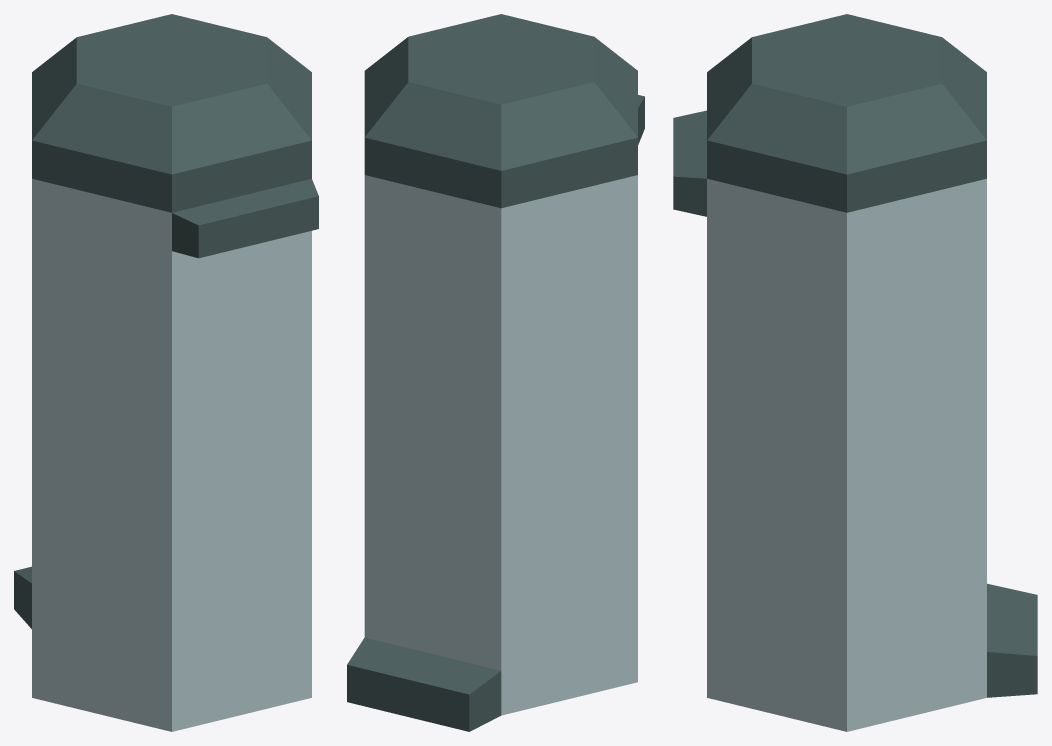
Rendered from trashcan.obj.
3 views of the same model, side by side, from view 1: azimuth 30°, elevation 25°; view 2: azimuth 150°, elevation 25°; view 3: azimuth 270°, elevation 25° (orthographic). The views are drawn at different scales.
Bounding box in the file's own units: 0.2077 × 0.4279 × 0.2341.
